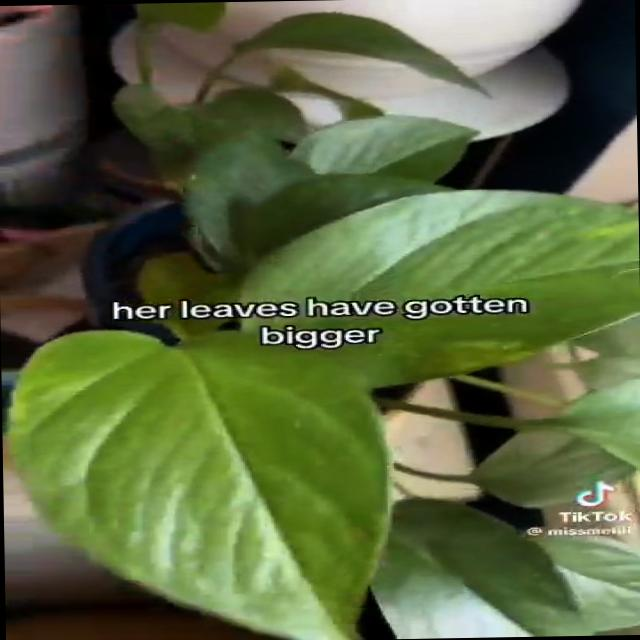roslina_zdrowa: (7, 2, 640, 640)
